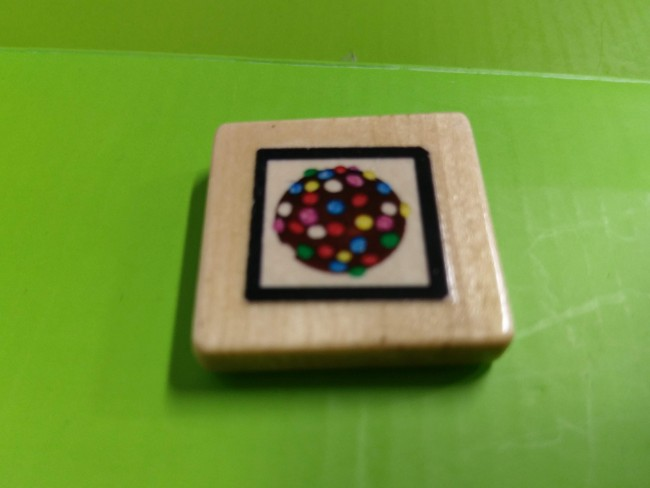cookie: (235, 135, 466, 318)
